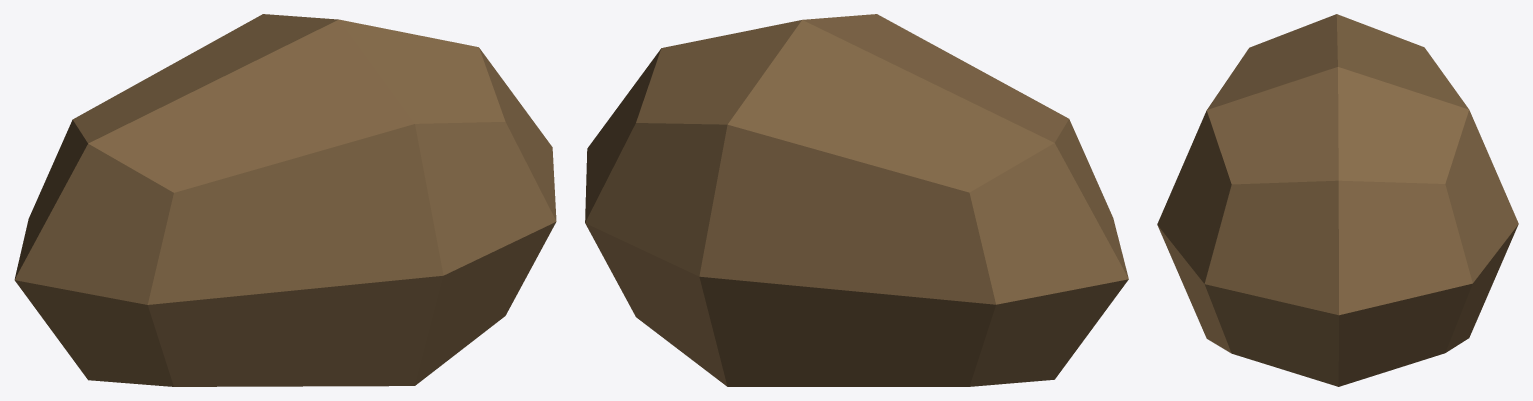
File: TEX_tree_seed.fbx
The picture shows the model from 3 angles, left to right: view 1: azimuth 30°, elevation 25°; view 2: azimuth 150°, elevation 25°; view 3: azimuth 270°, elevation 25°; orthographic projection. The views are drawn at different scales.
Parts seen in each view (by area): view 1: F_Seed.001; view 2: F_Seed.001; view 3: F_Seed.001.
Boxes of the visible parts, box(x1,y1,x2,y2) form: F_Seed.001: box(14, 14, 556, 386); F_Seed.001: box(585, 14, 1128, 386); F_Seed.001: box(1157, 14, 1518, 386).
Size of the model in its own units: 20.4 by 13.04 by 13.58.
Materials: 1 (1 with a texture image).
